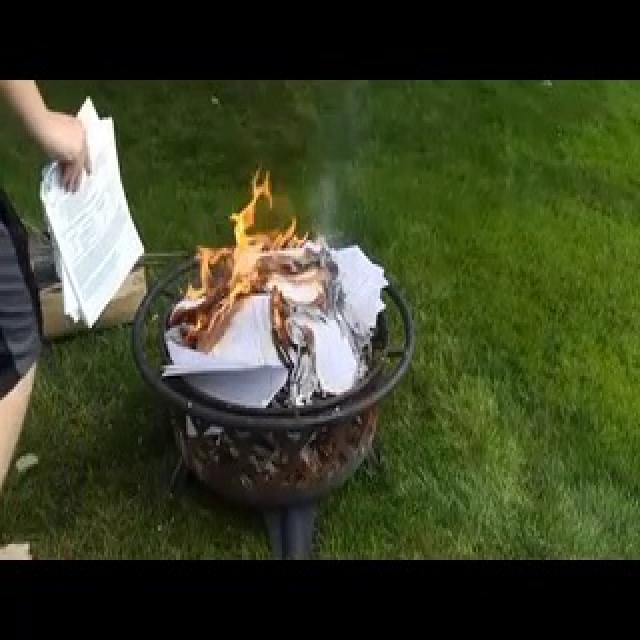Fire: (162, 159, 312, 353)
